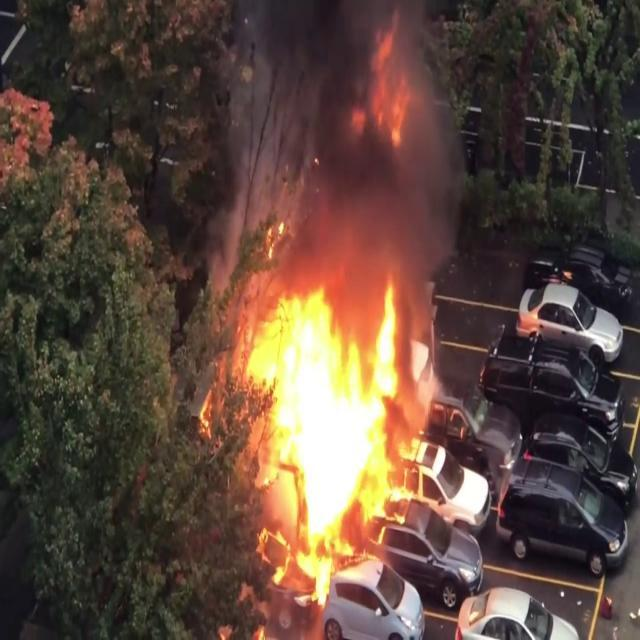Fire: (238, 268, 457, 584)
Smoke: (227, 0, 487, 290)
